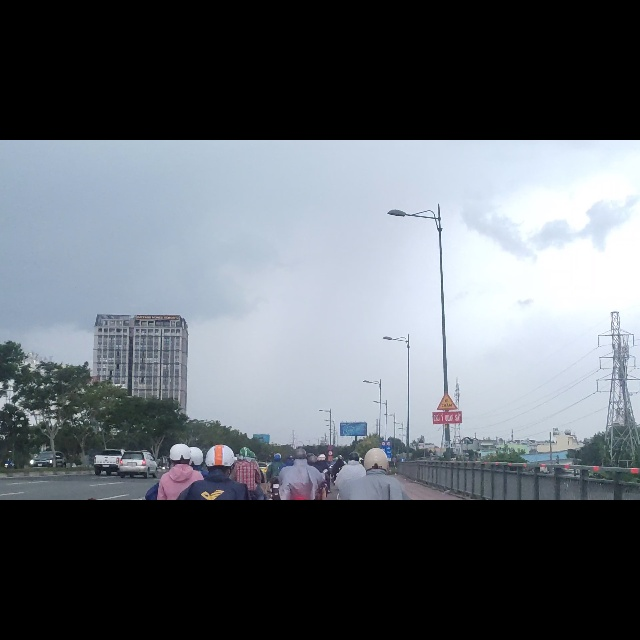bien_cam: (436, 447, 458, 482)
